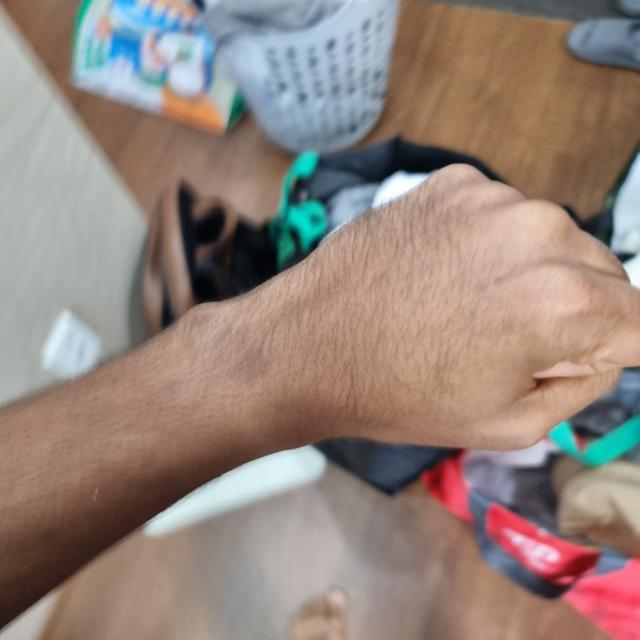Rock: (205, 164, 640, 454)
